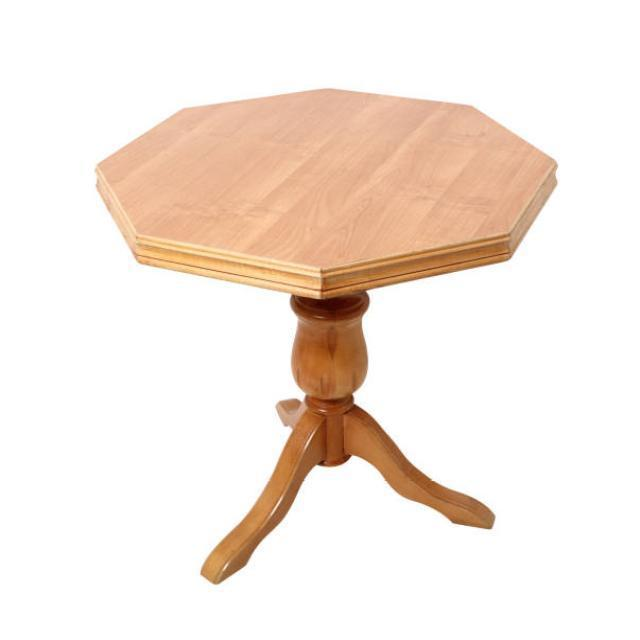table: (94, 86, 558, 584)
